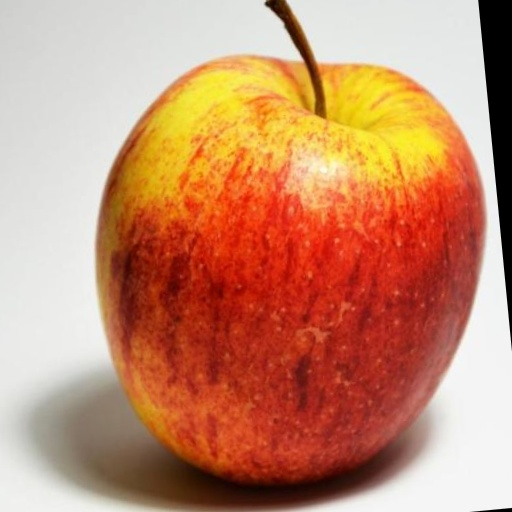fruit: (96, 56, 484, 484)
